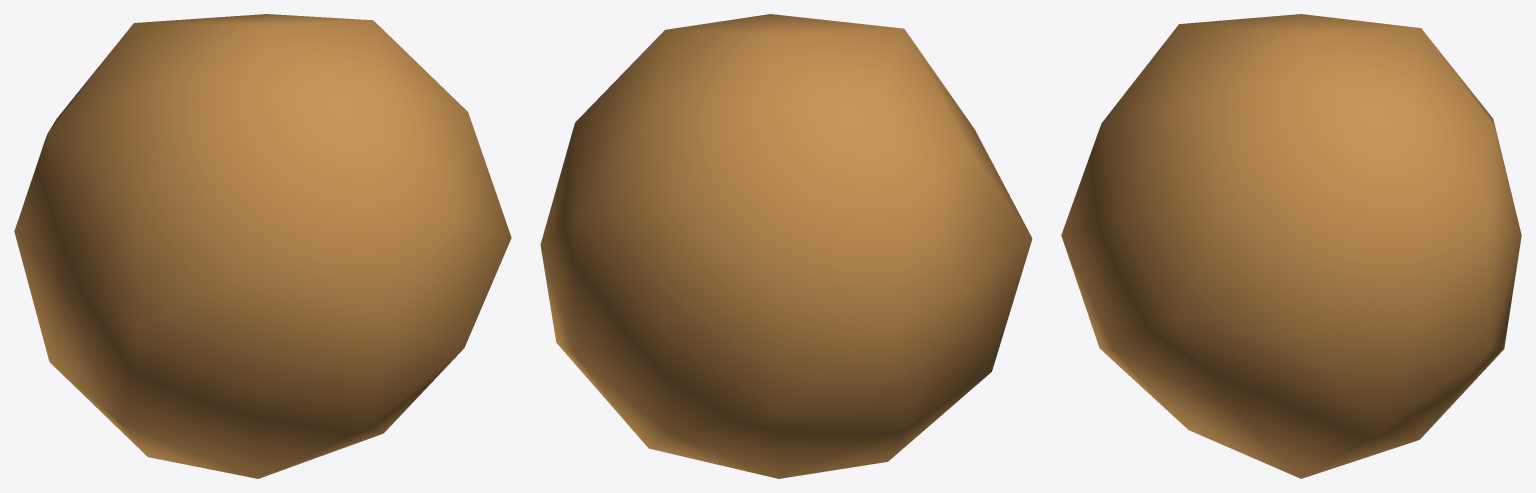
File: pixie_cut.glb
3 renders of one model, left to right at view 1: azimuth 30°, elevation 25°; view 2: azimuth 150°, elevation 25°; view 3: azimuth 270°, elevation 25°, orthographic. The views are drawn at different scales.
Visible parts, largest first — view 1: world; view 2: world; view 3: world.
Boxes of the visible parts, x1,y1,x2,y2 form: world: (14, 14, 511, 478); world: (540, 14, 1032, 478); world: (1061, 14, 1521, 478).
Bounding box in the file's own units: 15.74 × 15.85 × 15.72.
